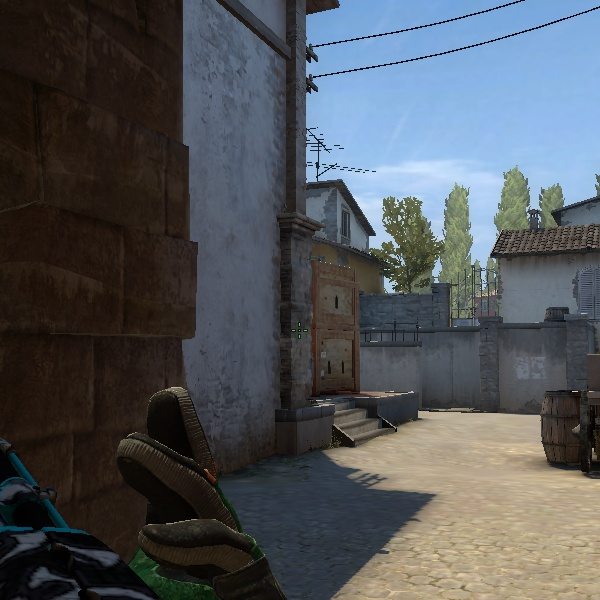ct_head: (32, 385, 330, 600)
